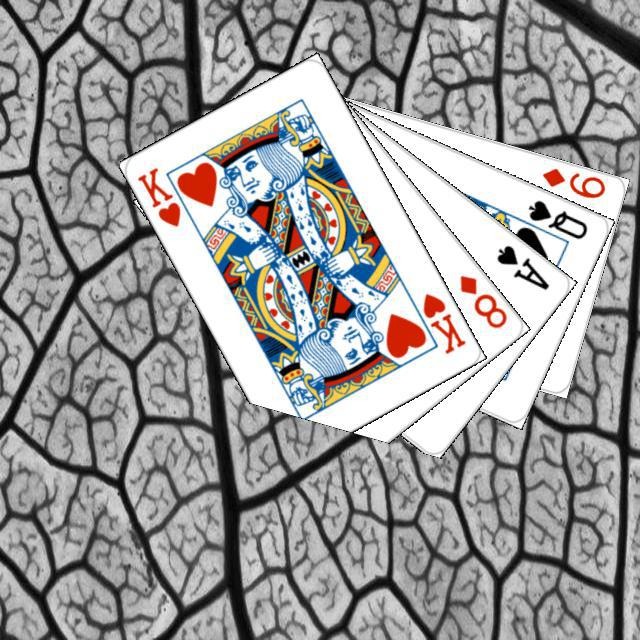8d: (454, 269, 509, 330)
9d: (537, 163, 607, 200)
As: (491, 240, 552, 292)
Kh: (403, 288, 468, 356), (132, 162, 183, 229)
Qs: (523, 195, 590, 241)
